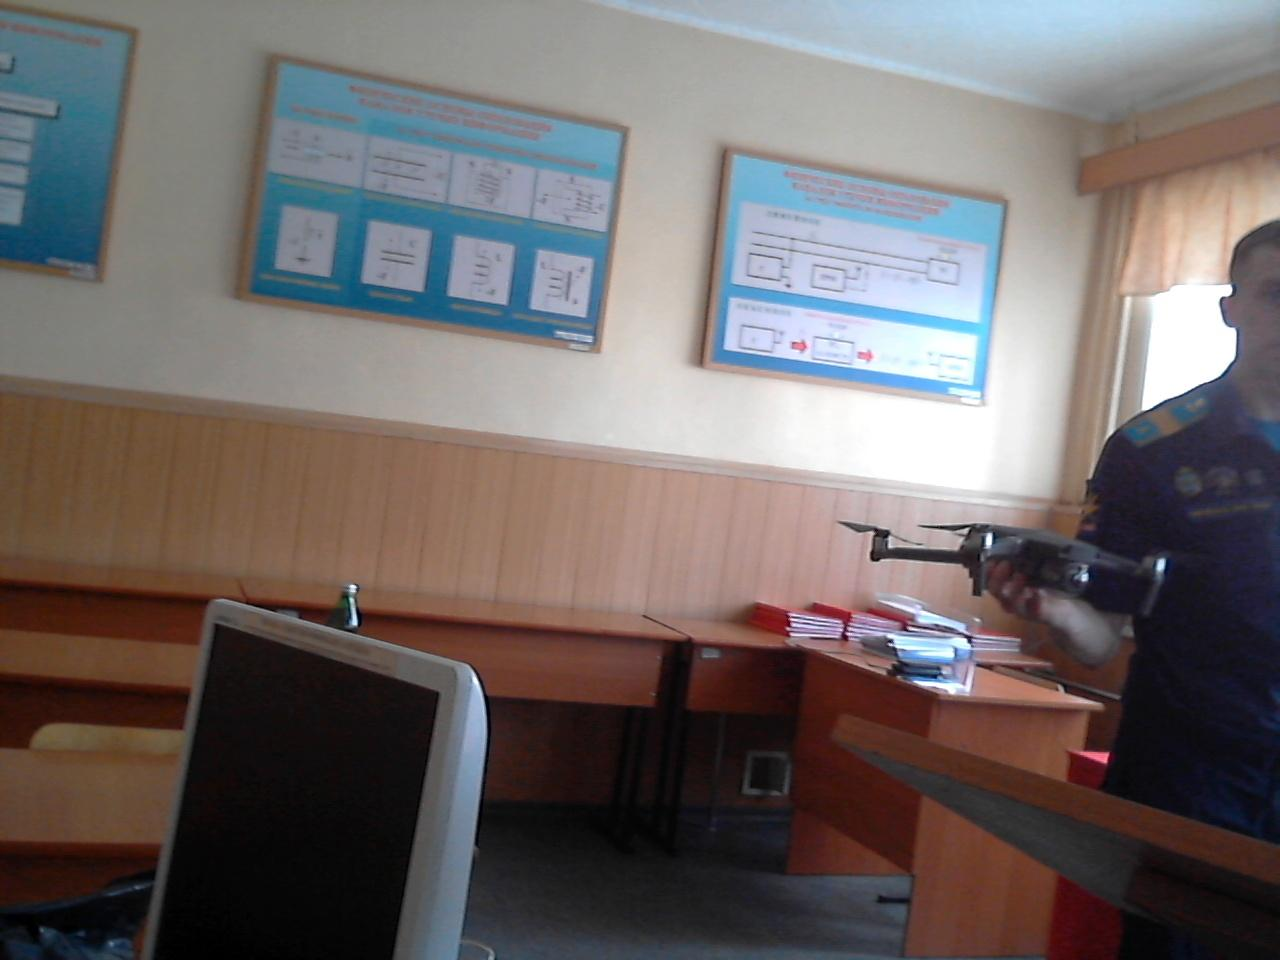drone: (840, 460, 1186, 619)
